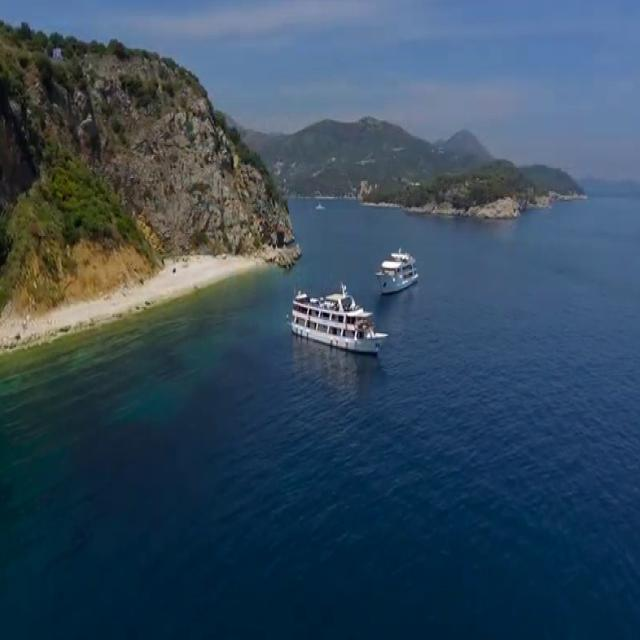passenger ship: (293, 284, 392, 350), (379, 251, 419, 294)
